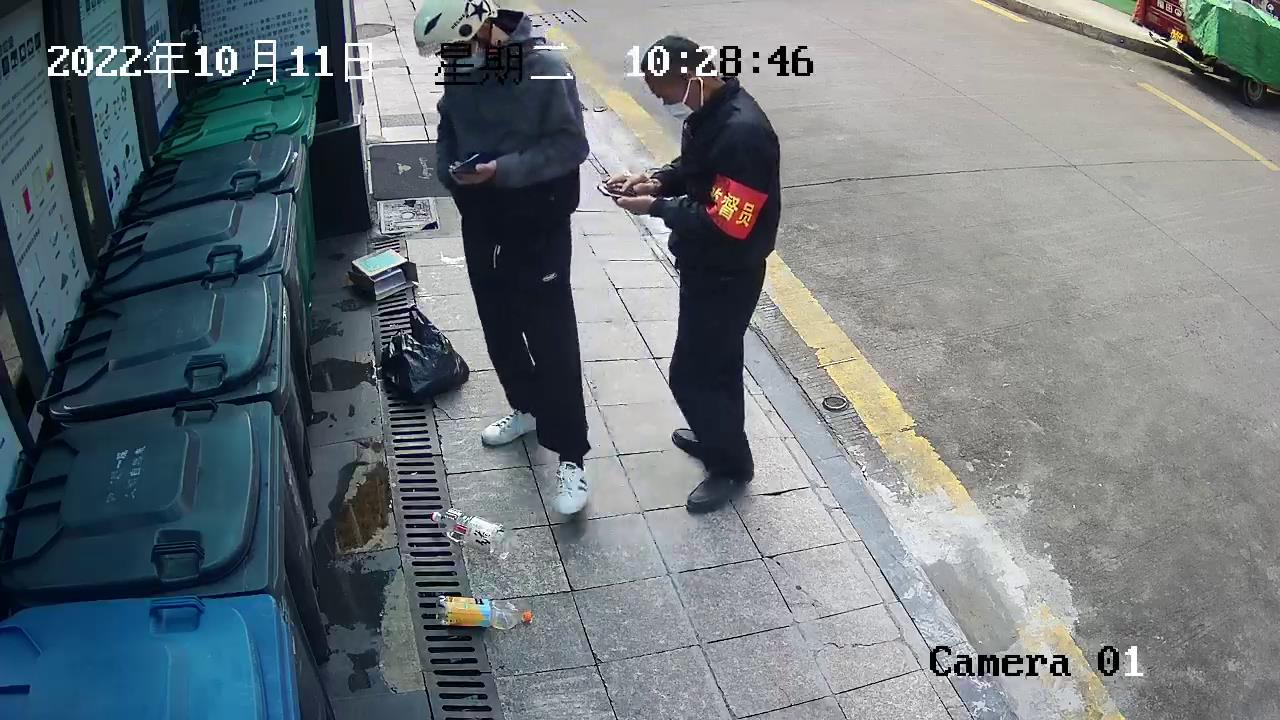garbage-bag: (378, 303, 475, 408)
person: (406, 1, 596, 521)
suliaozhipin: (425, 503, 516, 564), (430, 590, 539, 637)
worker: (594, 28, 791, 522)
zhizhipin: (343, 242, 425, 306)
